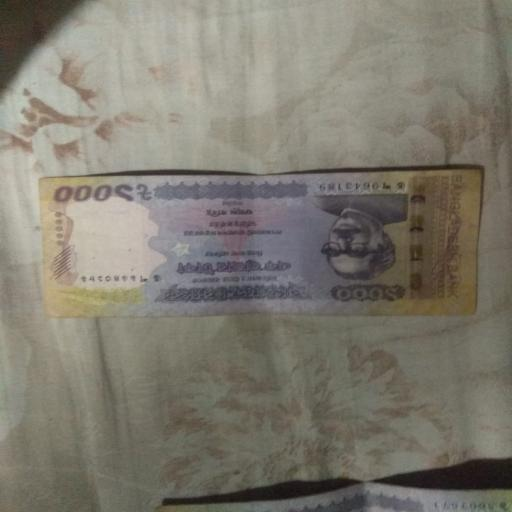1000taka: (39, 166, 483, 318)
